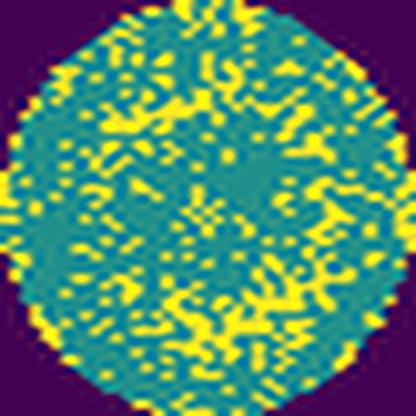Donut: (57, 60, 363, 388)
